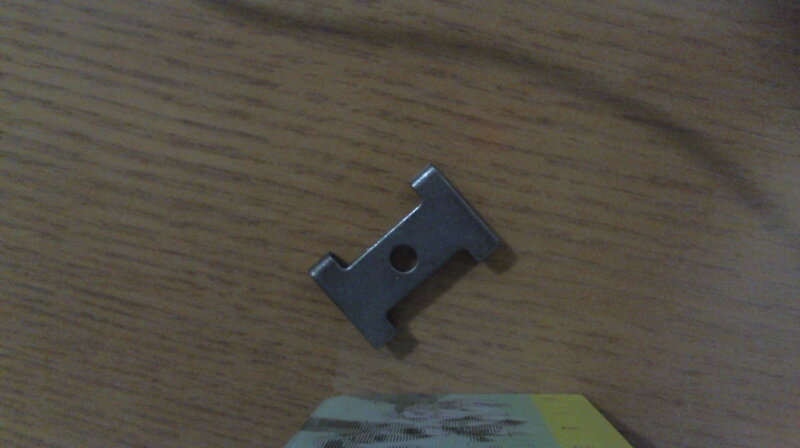O002: (305, 160, 507, 356)
